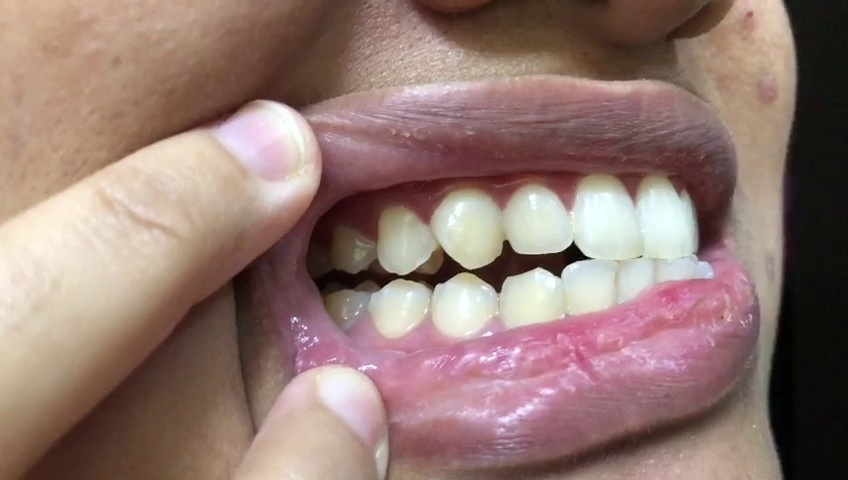1st Molar: (323, 286, 369, 329)
1st Premolar: (430, 271, 497, 338), (377, 203, 439, 275)
2nd Premolar: (369, 278, 430, 339), (329, 221, 377, 274)
Canine: (431, 190, 503, 270), (499, 264, 564, 331)
Central Incisor: (572, 172, 644, 260), (638, 173, 694, 259)
Lateral Incisor: (502, 181, 572, 255), (562, 258, 619, 316)
